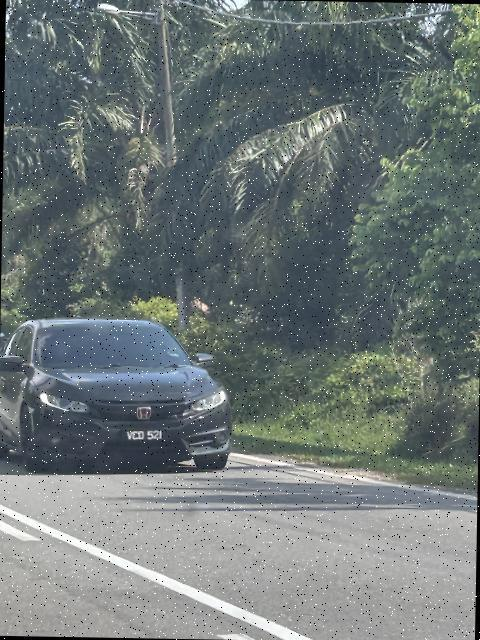License_Plate: (123, 426, 168, 446)
VCD521: (123, 426, 168, 446)
car: (1, 318, 237, 472)
